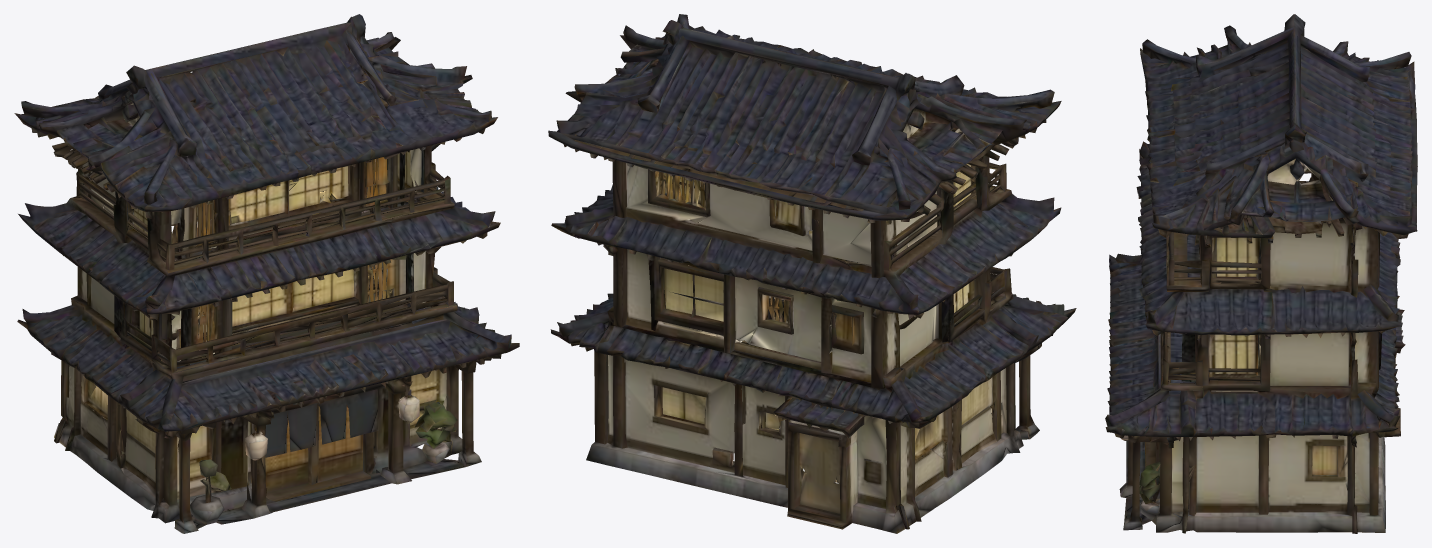
File: candidate.glb
3 views of the same model, side by side, from view 1: azimuth 30°, elevation 25°; view 2: azimuth 150°, elevation 25°; view 3: azimuth 270°, elevation 25° (orthographic). The views are drawn at different scales.
Visible parts, largest first — view 1: compact__hotel_3__native_mobile; view 2: compact__hotel_3__native_mobile; view 3: compact__hotel_3__native_mobile.
Part boxes in pixels (left/top/right/bottom): compact__hotel_3__native_mobile: left=14, top=14, right=519, bottom=533; compact__hotel_3__native_mobile: left=548, top=14, right=1076, bottom=533; compact__hotel_3__native_mobile: left=1105, top=14, right=1417, bottom=533.
Size of the model in its own units: 1 by 0.9846 by 0.7095.
1 material, 1 textured.
